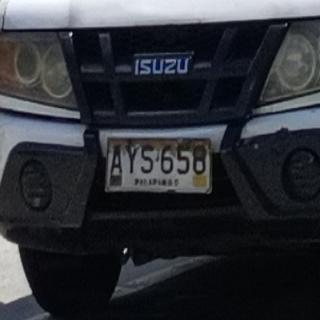license: (107, 139, 213, 194)
